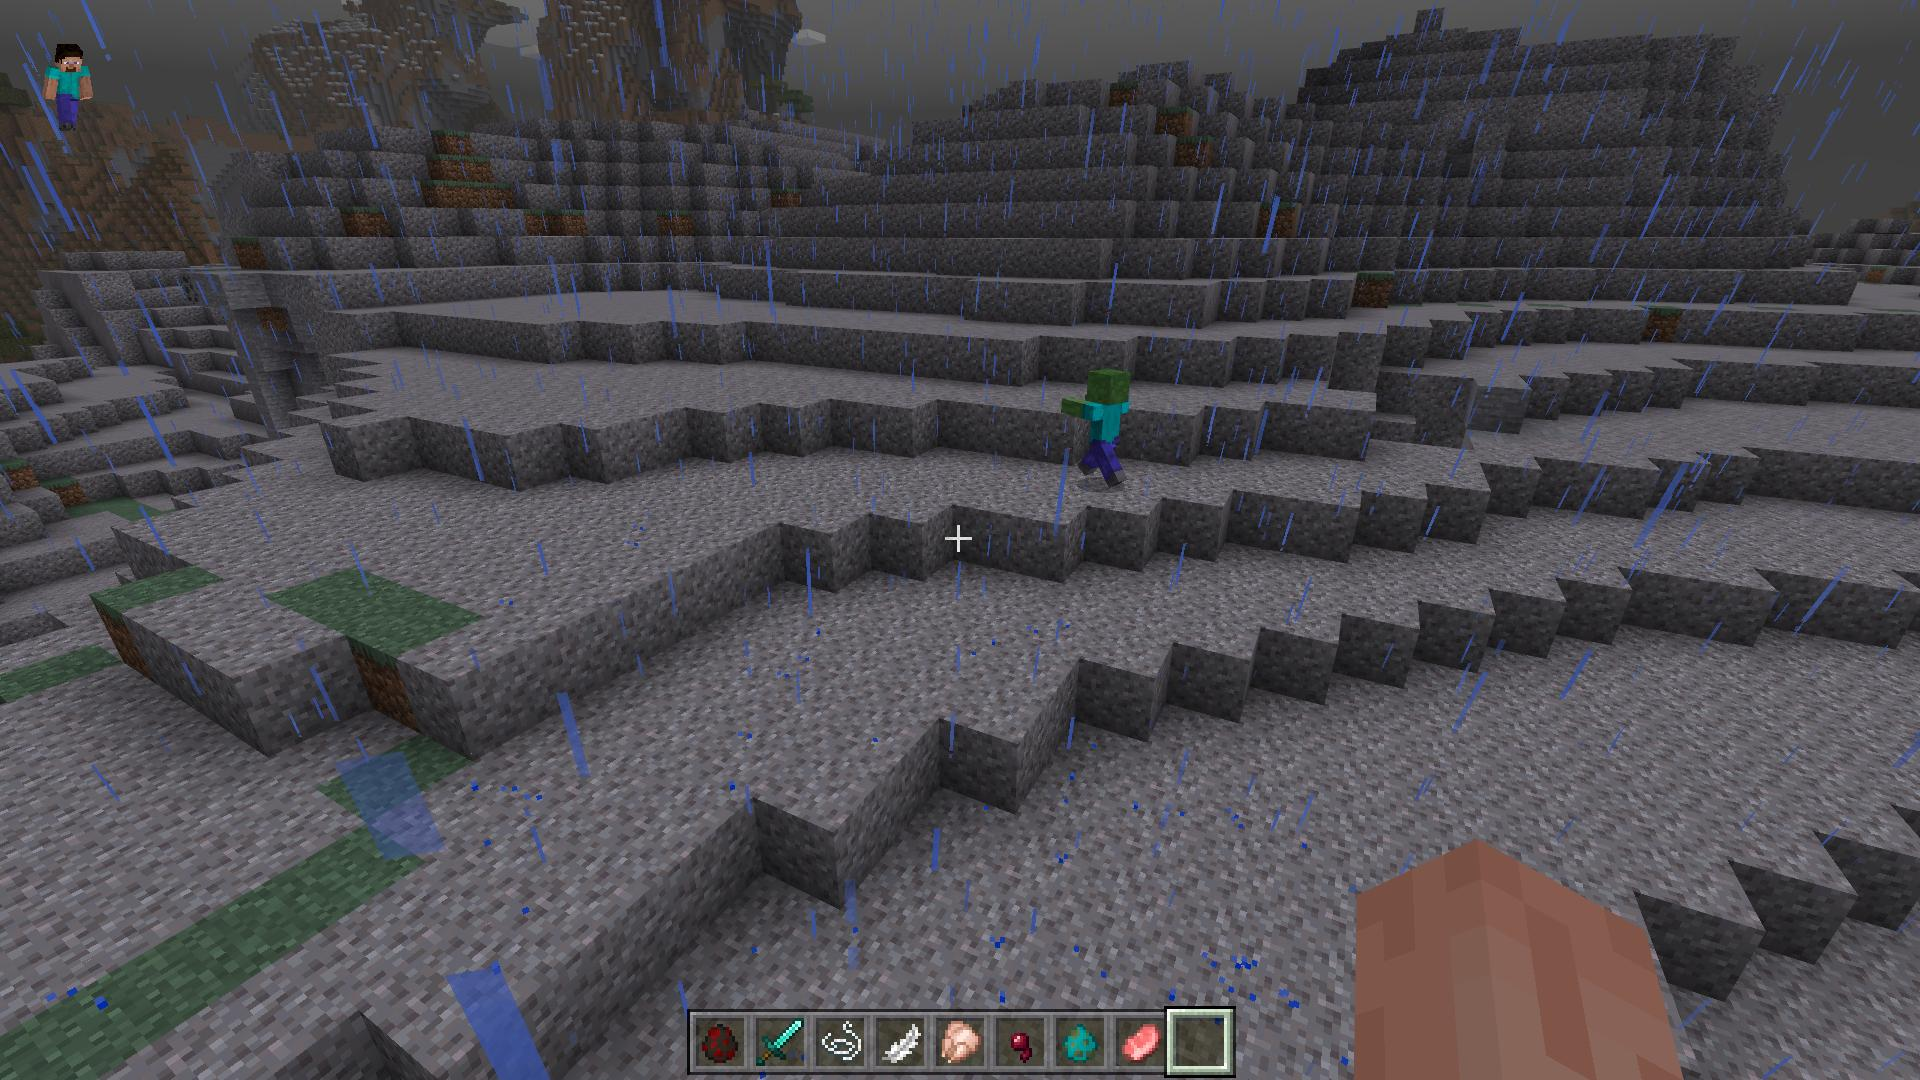zombie: (1063, 372, 1135, 491)
